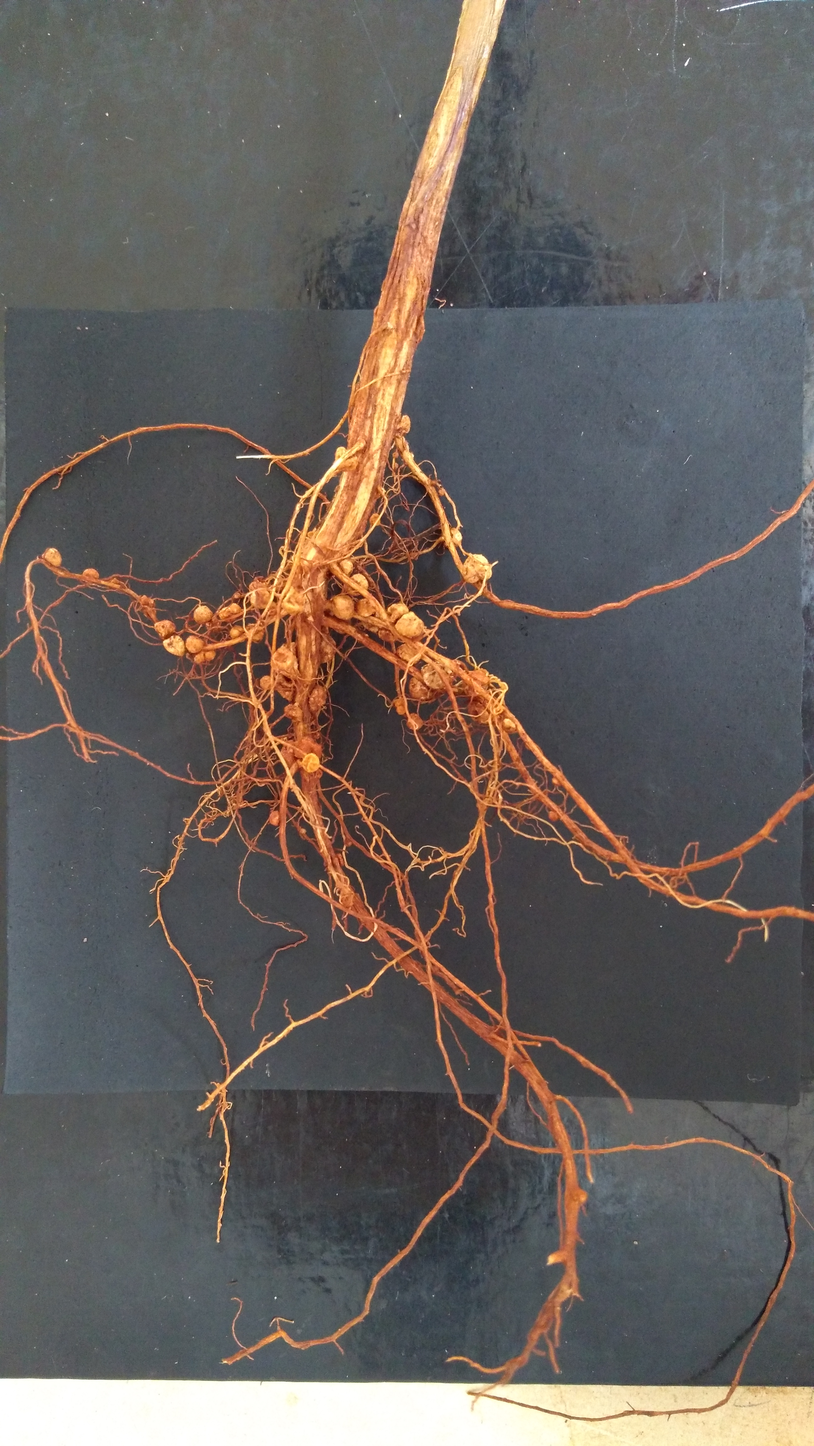nodule: (281, 577, 316, 623), (270, 642, 301, 681), (409, 676, 444, 705), (421, 662, 455, 690), (461, 554, 492, 584), (395, 611, 425, 639), (467, 700, 497, 725), (293, 736, 322, 761), (463, 669, 489, 696), (249, 580, 272, 609), (318, 632, 337, 664), (275, 672, 295, 701), (335, 446, 357, 472), (332, 594, 354, 620), (308, 685, 327, 715), (343, 574, 368, 596), (280, 740, 298, 770), (396, 643, 420, 665), (163, 635, 185, 657), (218, 603, 242, 622), (442, 527, 462, 549), (387, 603, 409, 623), (356, 598, 378, 617), (154, 620, 176, 639), (140, 595, 156, 620), (330, 615, 351, 634), (42, 548, 62, 567), (378, 623, 397, 642), (186, 635, 205, 654), (302, 753, 320, 773), (245, 623, 263, 643), (194, 605, 212, 625), (108, 577, 130, 593), (284, 704, 303, 722), (79, 568, 99, 585), (362, 615, 378, 633), (406, 713, 422, 730), (229, 625, 245, 642), (205, 615, 222, 631), (502, 717, 517, 735), (339, 559, 353, 578), (260, 675, 275, 690), (394, 697, 406, 715), (400, 415, 410, 433), (269, 810, 279, 826), (369, 513, 381, 526), (193, 651, 205, 664), (578, 1188, 587, 1205), (267, 601, 277, 616), (374, 487, 386, 499), (276, 579, 287, 592), (548, 810, 559, 822), (336, 852, 344, 867), (552, 777, 563, 787), (206, 649, 215, 661), (321, 624, 332, 632), (312, 731, 320, 740), (307, 531, 315, 539), (299, 827, 307, 834), (392, 451, 399, 458), (438, 489, 445, 496), (393, 462, 399, 469), (234, 593, 240, 598), (410, 452, 414, 459), (240, 594, 244, 598)
